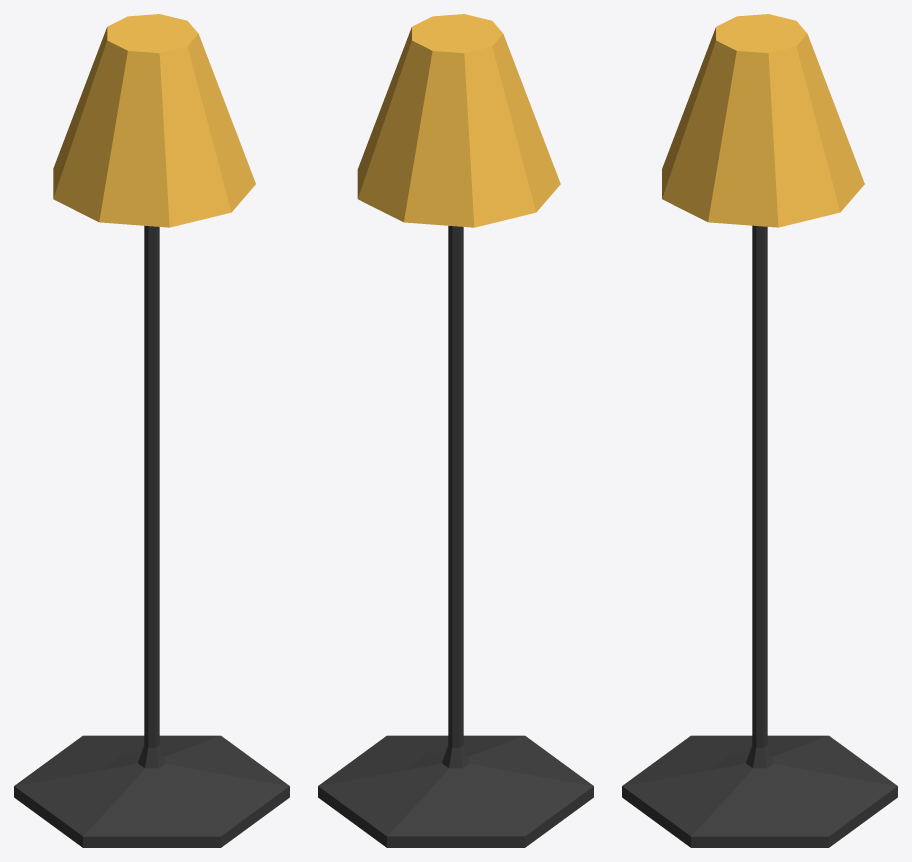
Rendered from Lamp.fbx.
3 views of the same model, side by side, from view 1: azimuth 30°, elevation 25°; view 2: azimuth 150°, elevation 25°; view 3: azimuth 270°, elevation 25° (orthographic).
Parts seen in each view (by area): view 1: Lamp; view 2: Lamp; view 3: Lamp.
Part boxes in pixels (left/top/right/bottom): Lamp: left=14, top=14, right=289, bottom=847; Lamp: left=318, top=14, right=593, bottom=847; Lamp: left=622, top=14, right=897, bottom=847.
Size of the model in its own units: 1407 by 4965 by 1625.
Materials: 1 (1 with a texture image).
